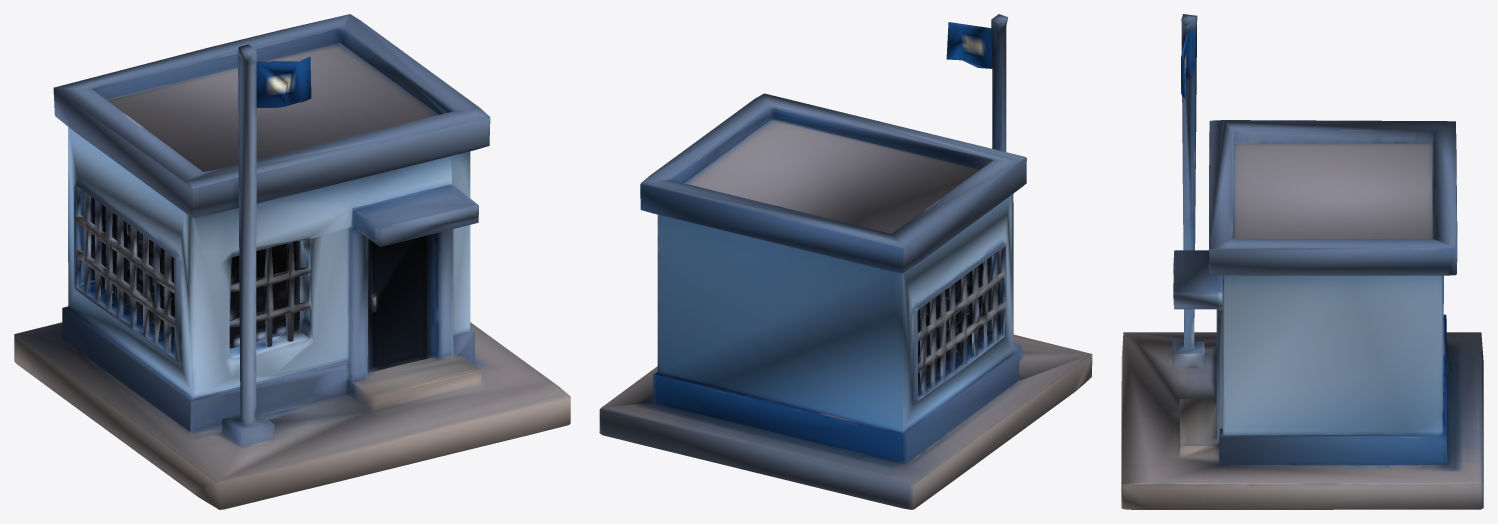
Rendered from karakol.glb.
The picture shows the model from 3 angles, left to right: view 1: azimuth 30°, elevation 25°; view 2: azimuth 150°, elevation 25°; view 3: azimuth 270°, elevation 25°; orthographic projection. The views are drawn at different scales.
Parts seen in each view (by area): view 1: node_0; view 2: node_0; view 3: node_0.
Part boxes in pixels (box(x1,y1,x2,y2)): node_0: box(14, 14, 570, 509); node_0: box(599, 14, 1092, 509); node_0: box(1121, 14, 1483, 509).
Size of the model in its own units: 0.6652 by 0.7492 by 0.6648.
Materials: 1 (1 with a texture image).
